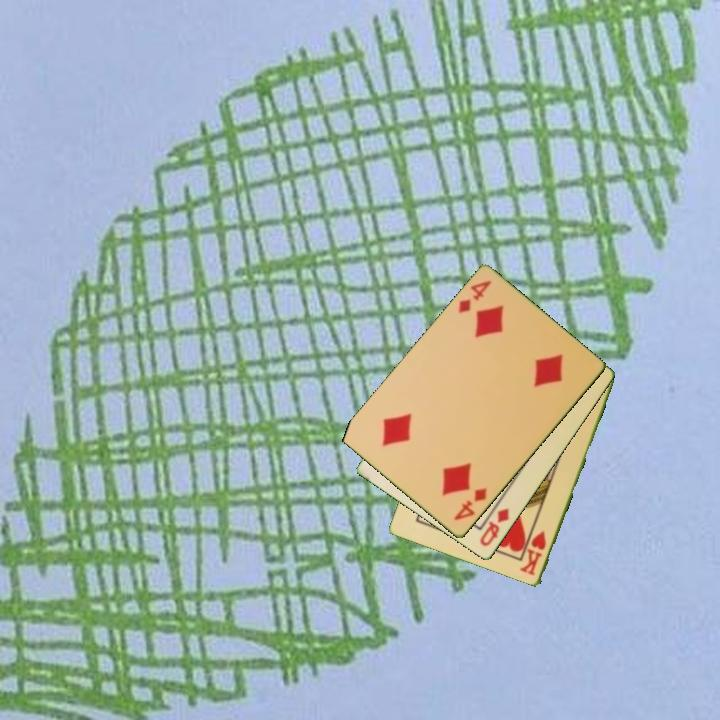4d: (450, 485, 490, 524), (455, 277, 494, 316)
Kh: (517, 527, 549, 579)
Qd: (476, 505, 512, 550)
